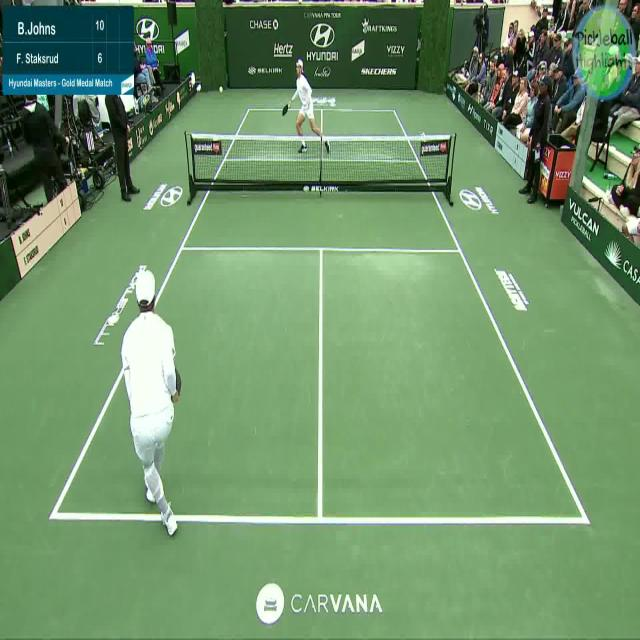ball: (218, 83, 224, 97)
